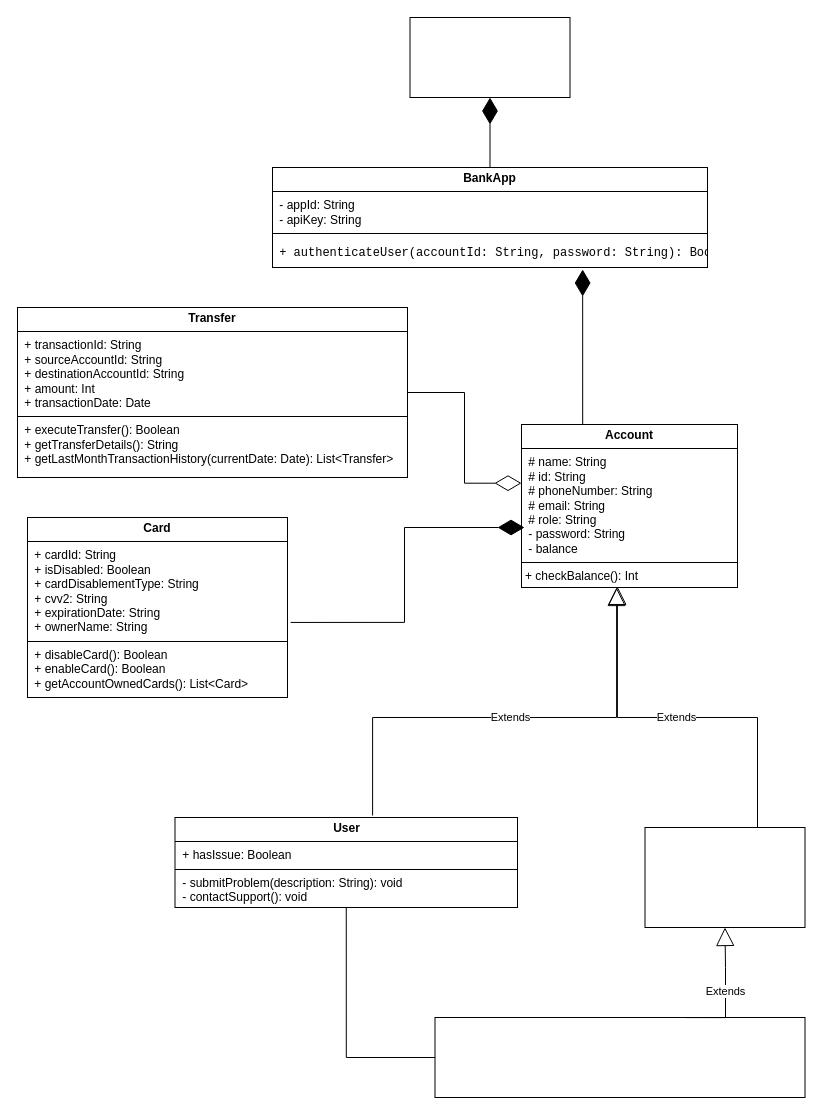
The diagram is 823 pixels wide and 1115 high, and some of its shapes have lost their labels. Here are the shapes that lost their labels. From the top down, the centre of each, then its label:
At [489,57]: "Bank + bankName: String".
At [724,877]: "Employee - salary: Int + department: String + position: String".
At [619,1057]: "Support + line: String - provideAssistance(userId: String): void".
